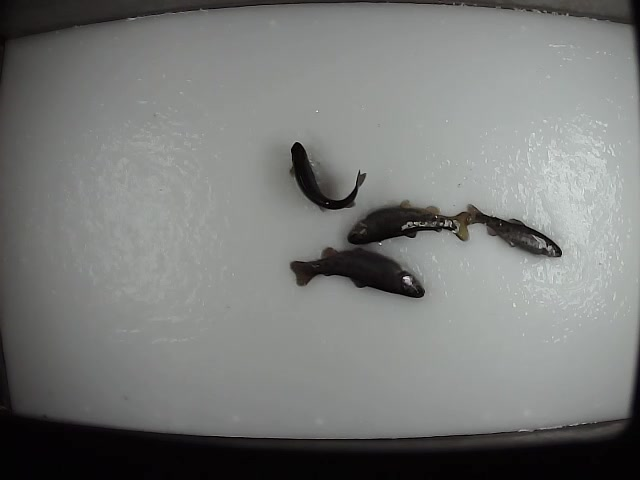fish: (287, 243, 427, 301), (344, 198, 472, 247), (285, 138, 368, 213), (464, 198, 562, 260)
